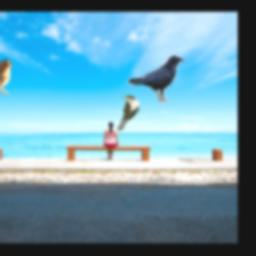Crow: (128, 54, 186, 103)
Cuckoo: (117, 96, 139, 131)
Sparrow: (0, 60, 12, 95)
